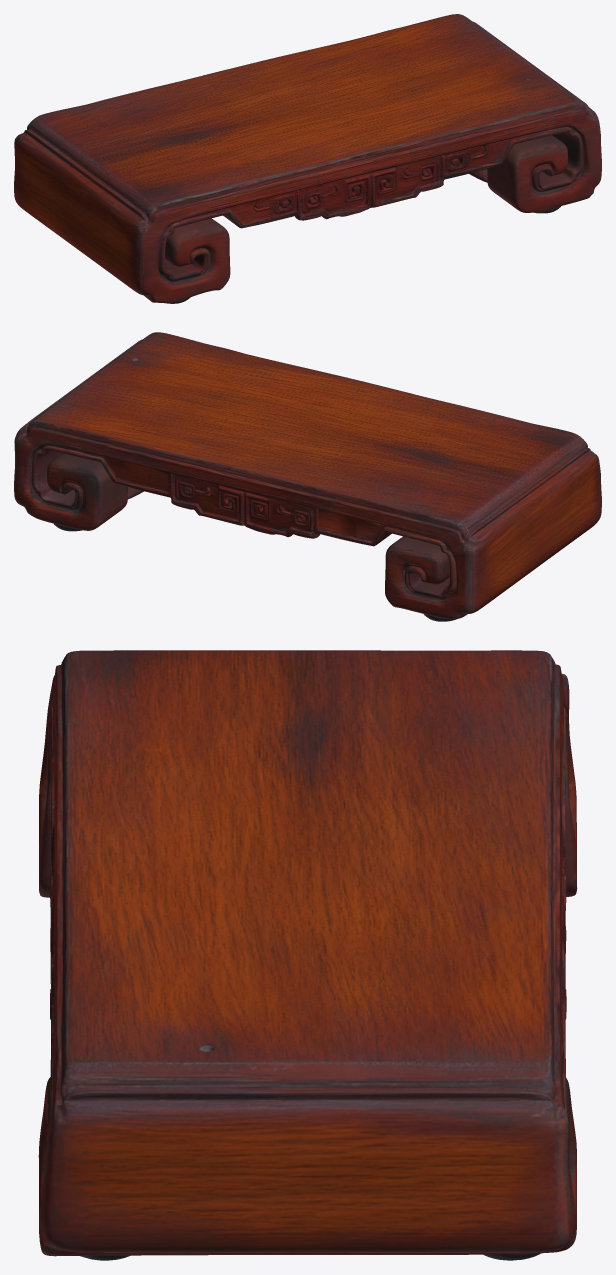
3 renders of one model, top to bottom at view 1: azimuth 30°, elevation 25°; view 2: azimuth 150°, elevation 25°; view 3: azimuth 270°, elevation 25°, orthographic. The views are drawn at different scales.
Parts seen in each view (by area): view 1: node_0; view 2: node_0; view 3: node_0.
Part boxes in pixels (left/top/right/bottom): node_0: left=14, top=14, right=601, bottom=303; node_0: left=14, top=332, right=601, bottom=621; node_0: left=38, top=650, right=577, bottom=1260.
Size of the model in its own units: 1.09 by 0.2387 by 0.5457.
1 material, 1 textured.
